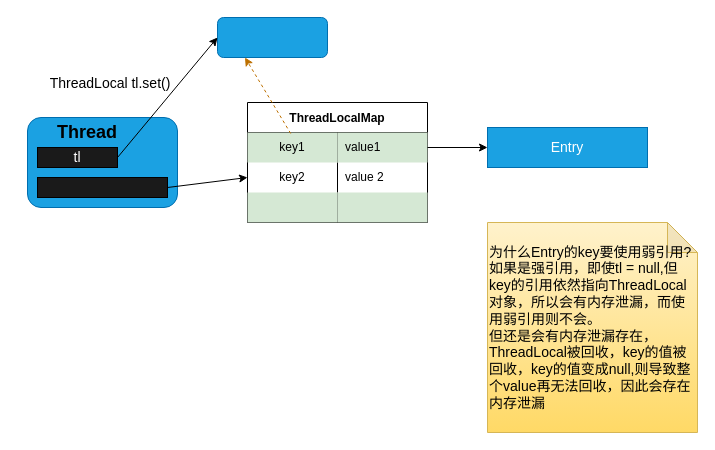
The diagram is 715 pixels wide and 450 high, and some of its shapes have lost their labels. Each missing label, with the box of its shape:
Map：threadLocals: (36, 176, 168, 198)
ThreadLocal: (216, 16, 328, 58)
